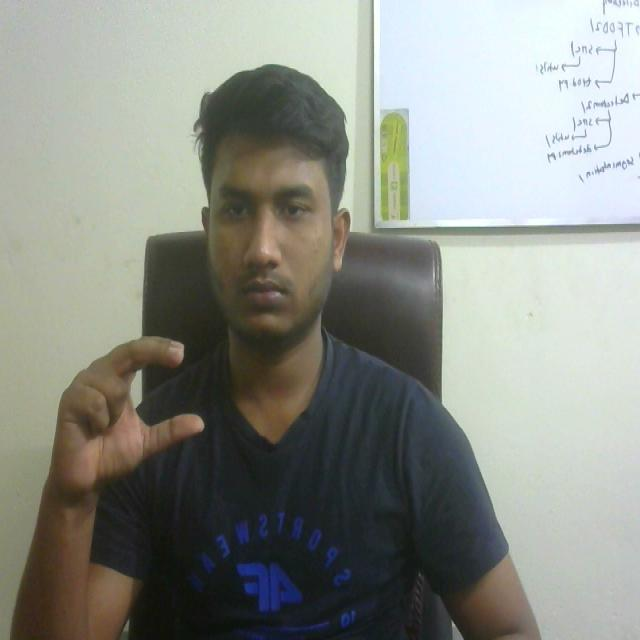D: (33, 309, 209, 512)
